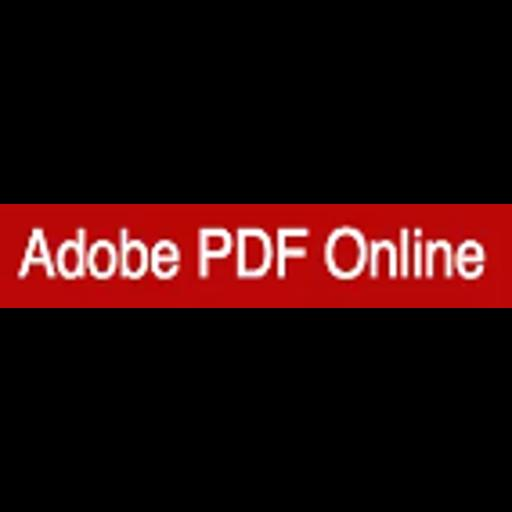Adobe: (0, 204, 512, 308)
